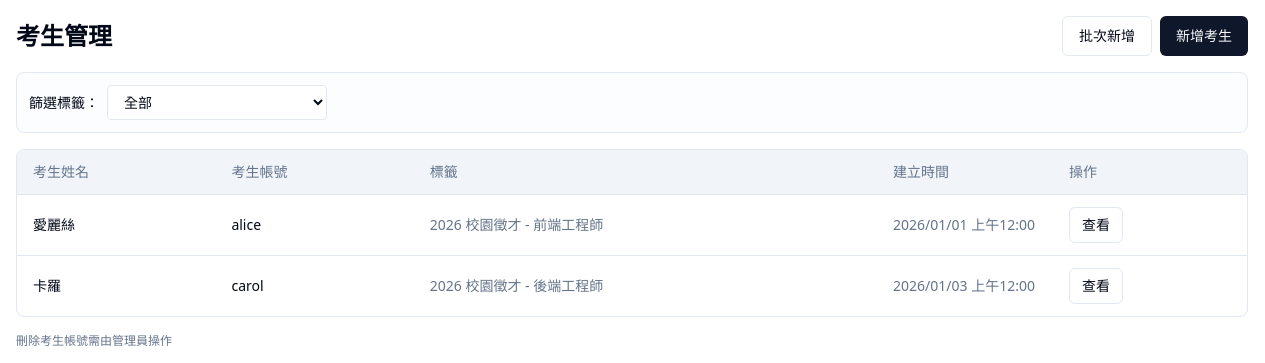
Scenario: CandidateListPage › filters candidates by selected tag
Expected: the text "alice" is shown, [215,194,414,256]
Expected: the text "carol" is shown, [215,256,414,316]
Select "2026 校園徵才 - 前端工程師" in the dropdown labelled "篩選標籤：". click: [217, 102]
box: [107,85,327,120]
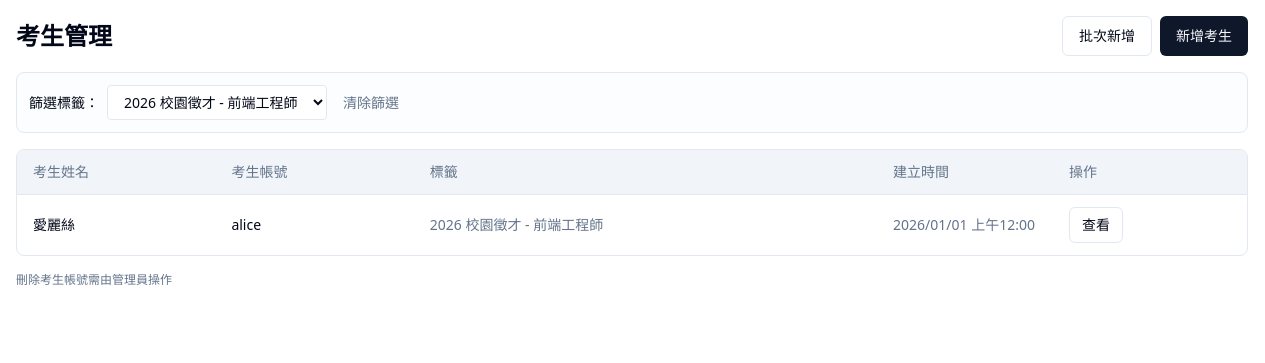
Expected: the text "alice" is shown, [215,194,414,255]
Expected: the text "carol" is gone
